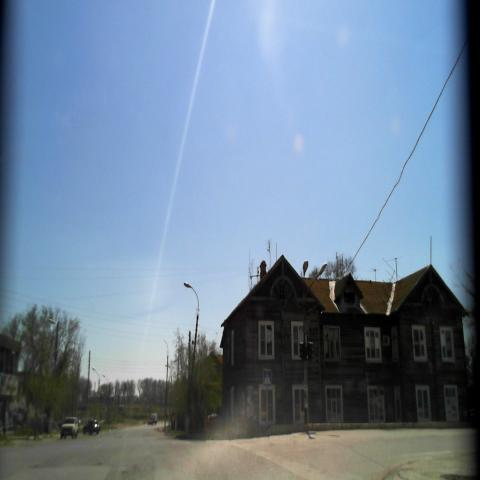5_19_1: (262, 368, 274, 387)
